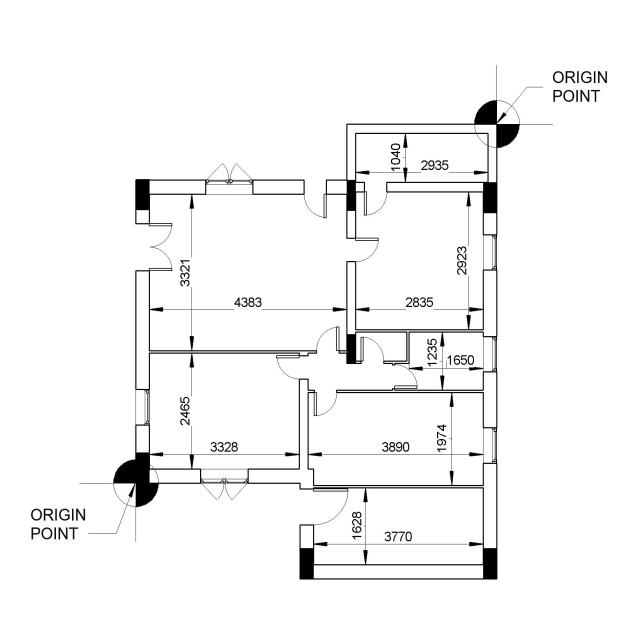Column: (482, 181, 498, 214), (134, 452, 150, 485), (299, 548, 315, 580), (482, 548, 498, 580), (135, 179, 150, 211), (345, 333, 357, 365), (346, 179, 357, 212)
Door: (298, 486, 350, 528), (300, 178, 330, 219), (345, 236, 380, 263), (275, 354, 309, 381), (363, 181, 388, 216), (391, 362, 420, 392), (359, 335, 386, 365), (312, 387, 338, 418), (315, 326, 342, 355)
Double-Door: (134, 222, 174, 273)
Window: (198, 468, 250, 502), (205, 161, 254, 196), (134, 388, 151, 426), (482, 232, 498, 272), (482, 427, 498, 464), (483, 335, 497, 373)
